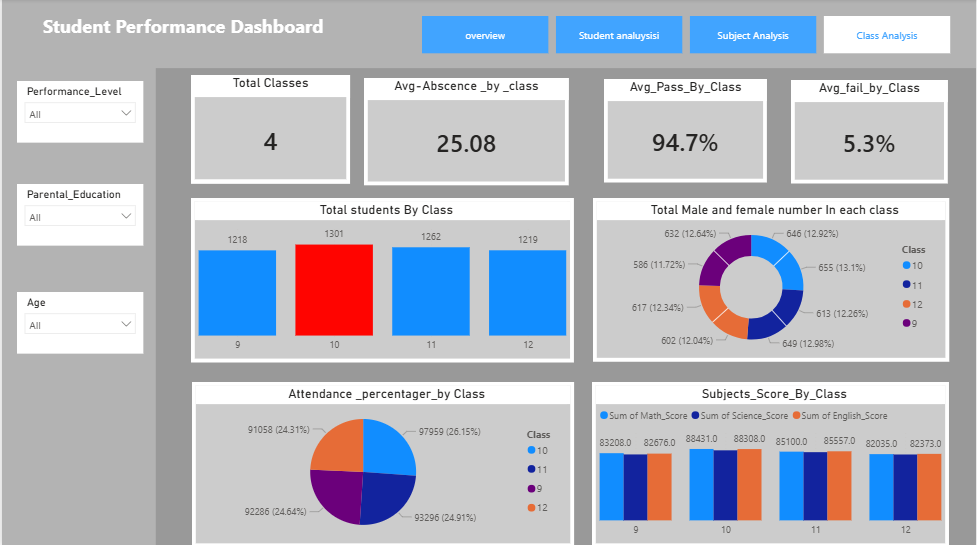

The page's visual inventory and layout, read from the dashboard file:
{"tool":"powerbi","page":{"name":"Class Analysis","canvas":[1280,720],"ordinal":3},"visuals":[{"type":"shape","box":[0,0,1280,90.8],"z":0},{"type":"cardVisual","title":"Avg_Pass_By_Class","fields":{"Data":["studentMeasures.Final_Pass_Rate"]},"box":[790.1,105.1,214.4,136.3],"z":0,"group":"g1"},{"type":"cardVisual","title":"Avg-Abscence _by _class","fields":{"Data":["studentMeasures.Avg Absence BY class"]},"box":[475.1,103.8,269.3,141.3],"z":1000,"group":"g1"},{"type":"cardVisual","title":"Avg_fail_by_Class","fields":{"Data":["studentMeasures.Avg_fail_by Class"]},"box":[1037.3,106.4,206.1,136.3],"z":1000},{"type":"textbox","box":[42.7,13.8,392.3,57.8],"z":2000},{"type":"cardVisual","title":"Total Classes","fields":{"Data":["studentMeasures.Count_Of_classess"]},"box":[247.7,99.7,209.5,143],"z":2000,"group":"g1"},{"type":"shape","box":[0,90.8,202.3,629],"z":3000},{"type":"group","id":"g1","title":"Group 1","box":[247.7,99.7,756.9,145.4],"z":4000},{"type":"pieChart","title":"Attendance _percentager_by Class","fields":{"Category":["Dim_student.Class"],"Y":["Sum(fact_student_performance.Attendance_Percentage)"]},"box":[249.3,503.4,501.8,217.3],"z":5000},{"type":"clusteredColumnChart","title":"Total students By Class","fields":{"Category":["Dim_student.Class"],"Y":["studentMeasures.total_student"]},"box":[247.7,262.1,503.4,215.7],"z":6000},{"type":"clusteredColumnChart","title":"Subjects_Score_By_Class","fields":{"Category":["Dim_student.Class"],"Y":["Sum(fact_student_performance.Math_Score)","Sum(fact_student_performance.Science_Score)","Sum(fact_student_performance.English_Score)"]},"box":[775.2,503.2,469.1,216.8],"z":7000},{"type":"slicer","fields":{"Values":["fact_student_performance.Performance_Level"]},"box":[19.1,107.4,166.3,80.9],"z":8000},{"type":"slicer","fields":{"Values":["fact_student_performance.Parental_Education"]},"box":[19.1,242.8,166.3,80.9],"z":9000},{"type":"slicer","fields":{"Values":["Dim_student.Age"]},"box":[19.1,385.5,166.3,80.9],"z":10000},{"type":"donutChart","title":"Total Male and female number In each class","fields":{"Category":["Dim_student.Class"],"Y":["studentMeasures.Male_number","studentMeasures.Female_number"]},"box":[776.5,261.5,467.7,215.5],"z":12000},{"type":"pageNavigator","box":[551.9,22,696.4,49.5],"z":12001}]}

Visuals, with their boxes in screenshot pixels (x1, y1, x2, y2), scaled from the page's 1280x720 canvas onto the 977x545 screenshot:
shape: BBox(0, 0, 976, 69)
"Avg_Pass_By_Class" cardVisual: BBox(603, 80, 767, 183)
"Avg-Abscence _by _class" cardVisual: BBox(363, 79, 568, 186)
"Avg_fail_by_Class" cardVisual: BBox(792, 81, 949, 184)
textbox: BBox(33, 10, 332, 54)
"Total Classes" cardVisual: BBox(189, 75, 349, 184)
shape: BBox(0, 69, 154, 544)
"Group 1" group: BBox(189, 75, 767, 186)
"Attendance _percentager_by Class" pieChart: BBox(190, 381, 573, 544)
"Total students By Class" clusteredColumnChart: BBox(189, 198, 573, 362)
"Subjects_Score_By_Class" clusteredColumnChart: BBox(592, 381, 950, 544)
slicer - fact_student_performance.Performance_Level: BBox(15, 81, 142, 143)
slicer - fact_student_performance.Parental_Education: BBox(15, 184, 142, 245)
slicer - Dim_student.Age: BBox(15, 292, 142, 353)
"Total Male and female number In each class" donutChart: BBox(593, 198, 950, 361)
pageNavigator: BBox(421, 17, 953, 54)
